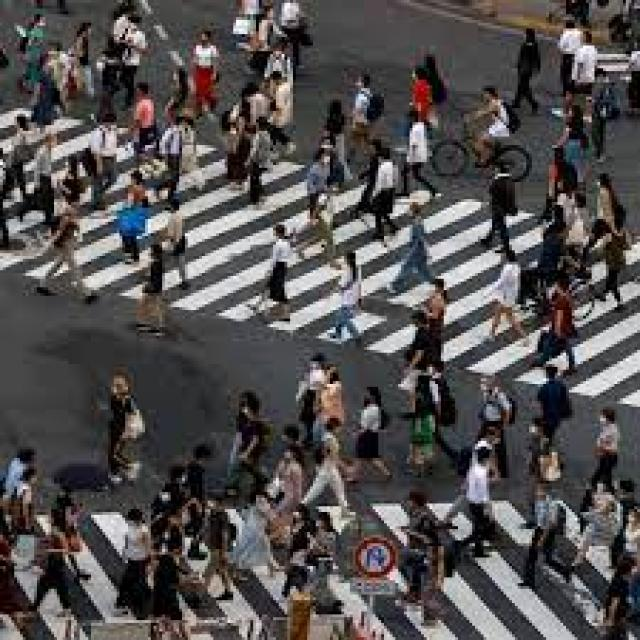Pedestrians: (31, 199, 100, 304), (91, 372, 151, 487), (475, 159, 521, 256), (387, 202, 435, 293), (484, 250, 529, 347), (154, 199, 196, 296), (532, 364, 574, 461), (256, 225, 296, 324), (327, 250, 364, 347), (134, 244, 170, 338), (589, 407, 623, 486)
